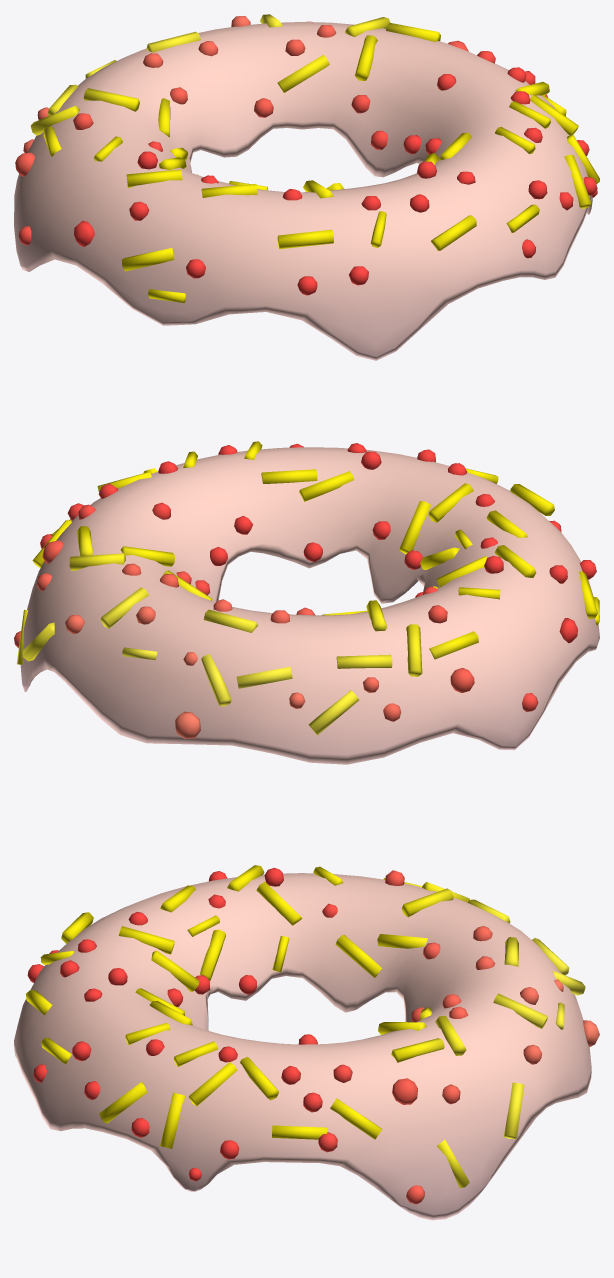
Rendered from Donut_02.fbx.
3 renders of one model, top to bottom at view 1: azimuth 30°, elevation 25°; view 2: azimuth 150°, elevation 25°; view 3: azimuth 270°, elevation 25°, orthographic.
Visible parts, largest first — view 1: Donut_02; view 2: Donut_02; view 3: Donut_02.
Part boxes in pixels (x1=…): Donut_02: x1=14, y1=14, x2=599, y2=360; Donut_02: x1=14, y1=441, x2=599, y2=764; Donut_02: x1=14, y1=865, x2=599, y2=1220.
Bounding box in the file's own units: 100 × 99.4 × 40.37.
